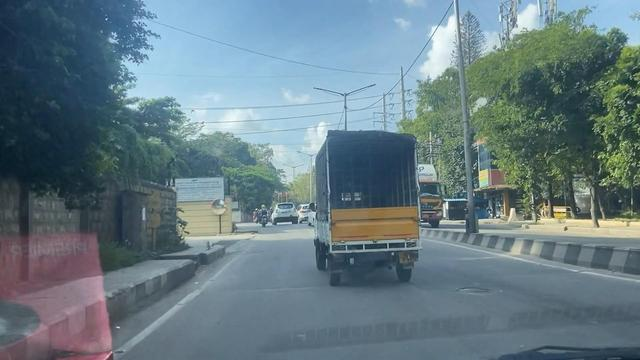HMV: (296, 121, 429, 302)
RoadDamages: (454, 276, 496, 298)
